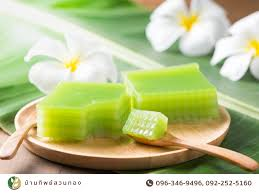kanomchan: (34, 71, 135, 148), (125, 61, 231, 130)
